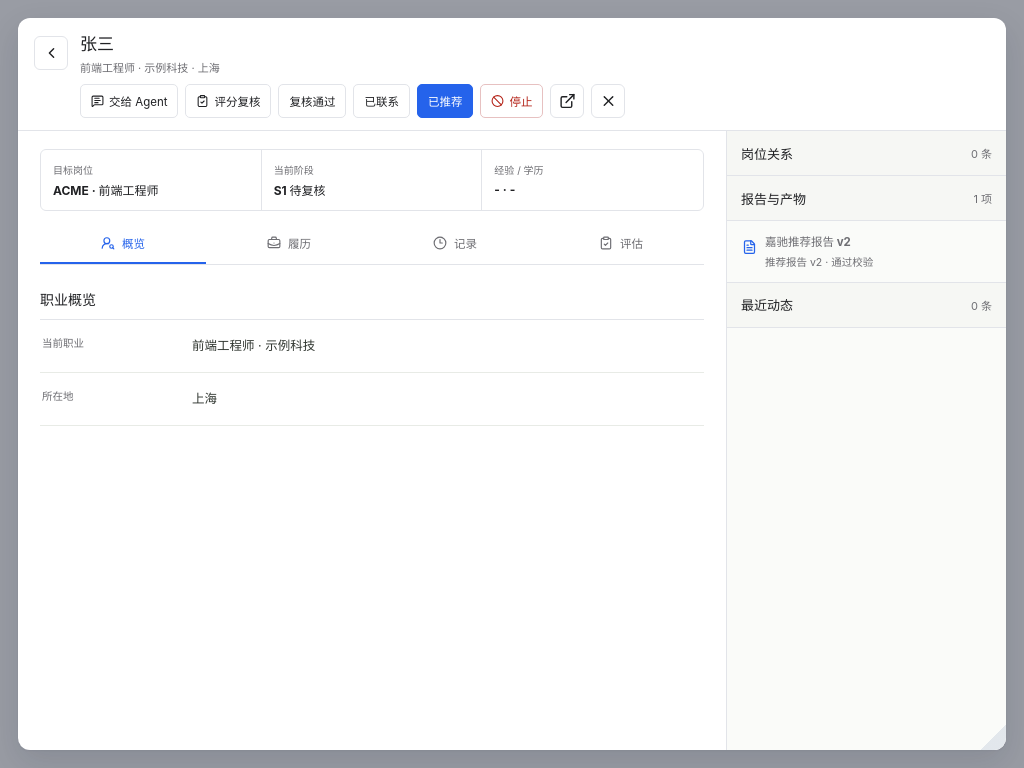
Test: 人选报告与产物 › 按版本展示报告并复用安全产物查看器
Check: the text "推荐报告 v2 · 通过校验" is shown, box [765,256,873,269]
Click the button with aria-label "查看人选产物：嘉驰推荐报告 v2" at (808, 242), box [727,221,1006,283]
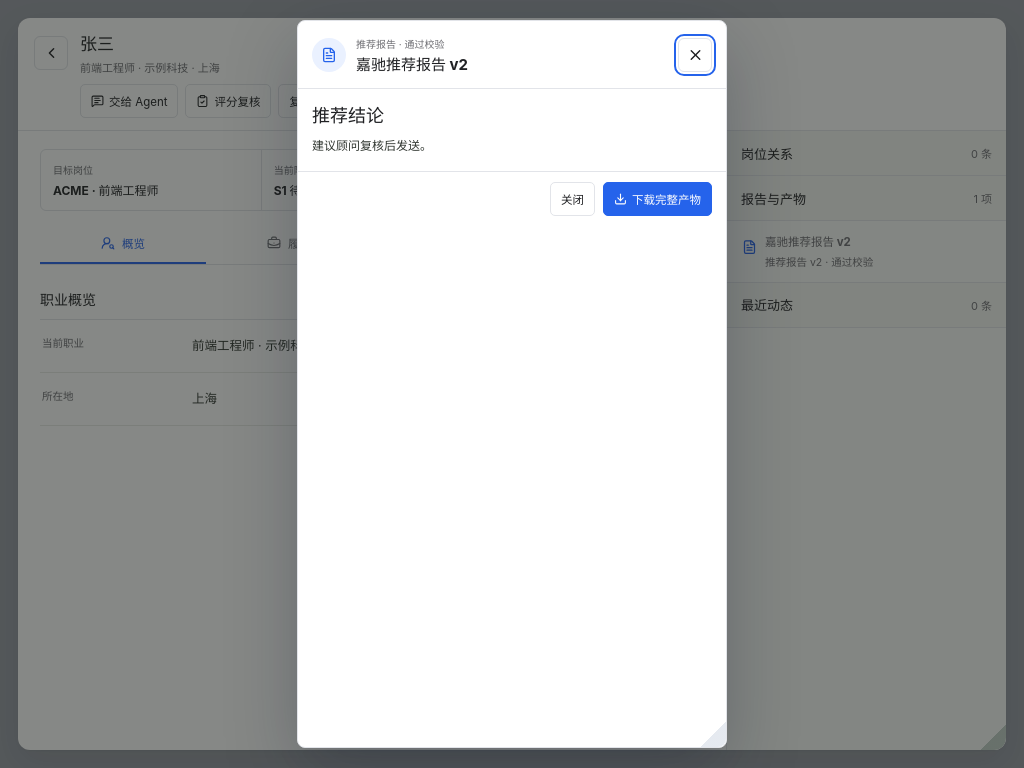
Check: the heading "推荐结论" is shown, box [312,105,384,126]
